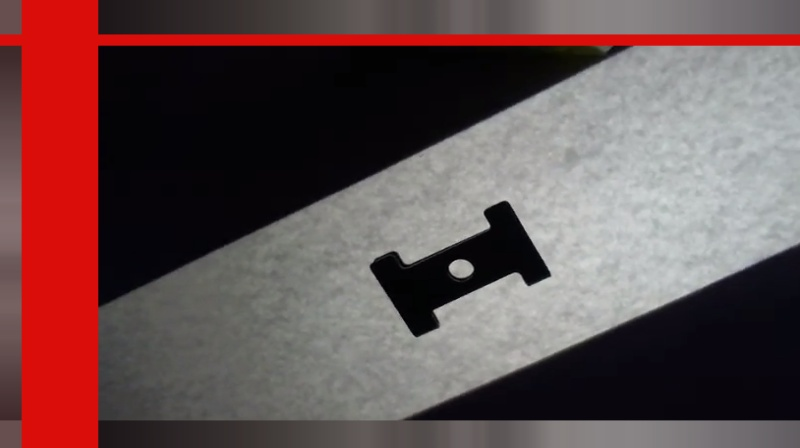O002: (368, 198, 552, 338)
